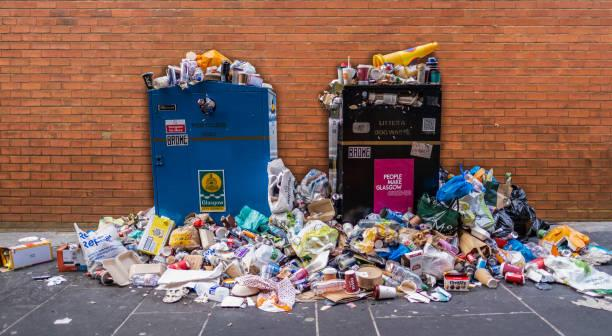trash: (138, 205, 612, 309), (134, 44, 275, 96), (106, 195, 173, 294), (324, 47, 451, 91), (522, 250, 612, 305), (490, 179, 549, 256), (48, 239, 141, 285), (535, 217, 612, 269), (77, 218, 132, 287), (466, 159, 526, 217), (354, 83, 438, 123), (379, 250, 440, 303), (155, 246, 225, 291), (304, 243, 351, 305), (330, 246, 375, 310), (0, 233, 54, 281), (434, 159, 486, 207), (288, 209, 338, 258), (452, 191, 508, 234), (232, 262, 283, 308), (331, 224, 371, 282), (260, 157, 295, 222), (289, 158, 332, 209), (485, 245, 535, 288), (368, 205, 425, 240), (400, 224, 437, 277), (483, 227, 533, 265), (239, 212, 282, 256), (365, 237, 395, 299), (422, 233, 452, 294), (437, 241, 470, 295), (263, 248, 308, 286), (458, 260, 505, 294), (391, 280, 452, 305), (277, 258, 305, 309), (219, 242, 255, 281), (458, 233, 497, 267), (413, 197, 449, 233), (366, 224, 406, 252), (164, 220, 202, 248), (311, 88, 345, 117), (466, 213, 494, 242)
trash_can_overflow: (115, 44, 297, 305), (306, 36, 474, 303)
